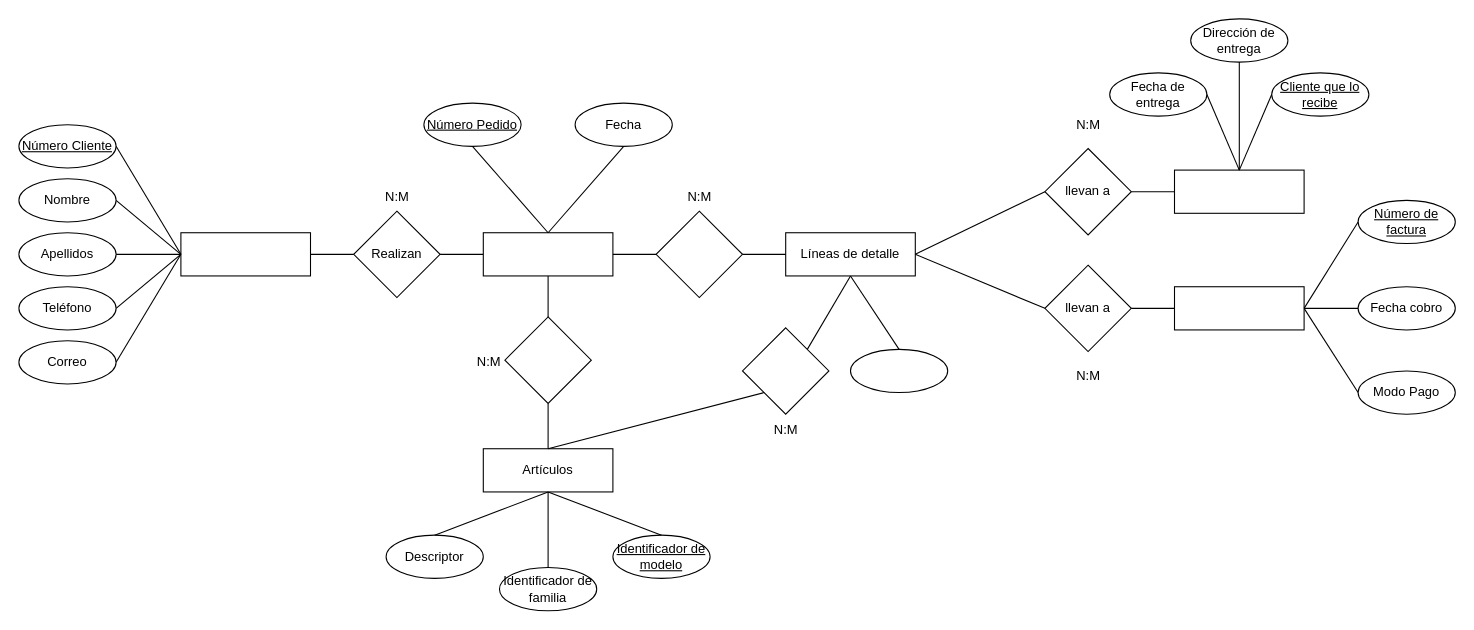
Some shapes in this 1474 by 630 pixel diagram are drawn without their labels. The centre of each missing label's shape, as x and y in pixels:
"Albaranes" goes at [1238,191].
"Cantidad" goes at [898,370].
"Clientes" goes at [245,254].
"Facturas" goes at [1238,308].
"llevan" goes at [547,359].
"ocupa" goes at [698,254].
"Pedidos" goes at [547,254].
"Refefencian" goes at [785,370].
